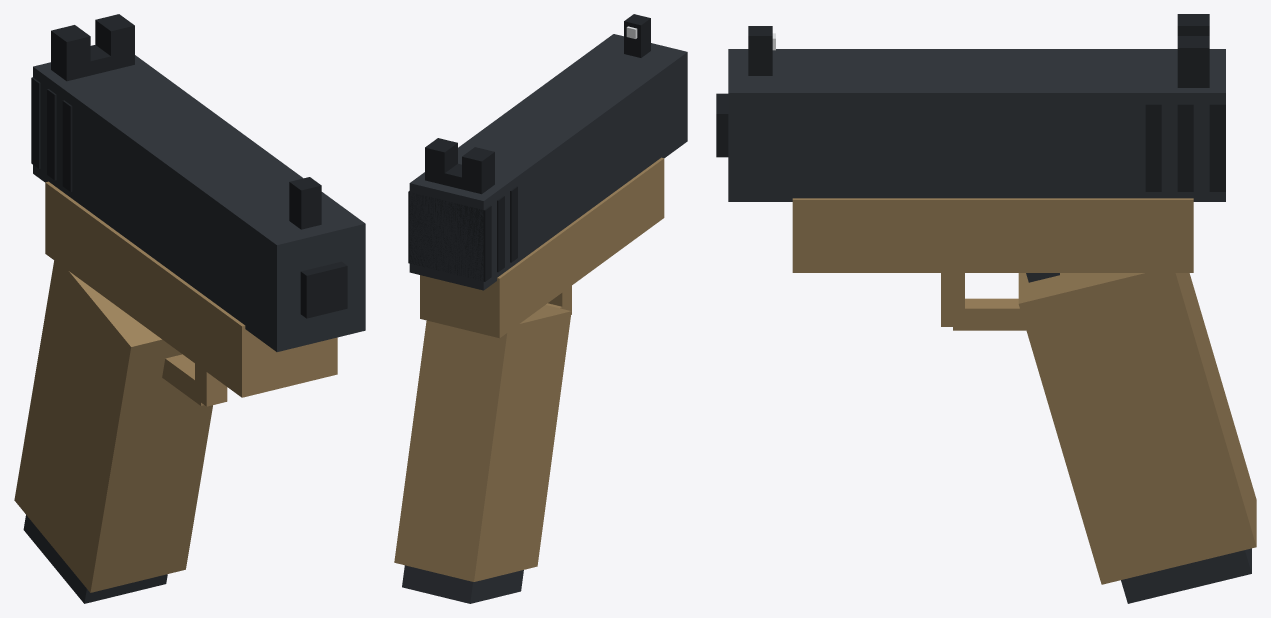
Rendered from wpn_m17.fbx.
The picture shows the model from 3 angles, left to right: view 1: azimuth 30°, elevation 25°; view 2: azimuth 150°, elevation 25°; view 3: azimuth 270°, elevation 25°; orthographic projection. The views are drawn at different scales.
Parts seen in each view (by area): view 1: wpn_m17; view 2: wpn_m17; view 3: wpn_m17.
Part boxes in pixels (x1=…): wpn_m17: x1=14, y1=14, x2=365, y2=603; wpn_m17: x1=394, y1=14, x2=687, y2=603; wpn_m17: x1=716, y1=14, x2=1256, y2=603.
Size of the model in its own units: 14 by 76 by 67.34.
